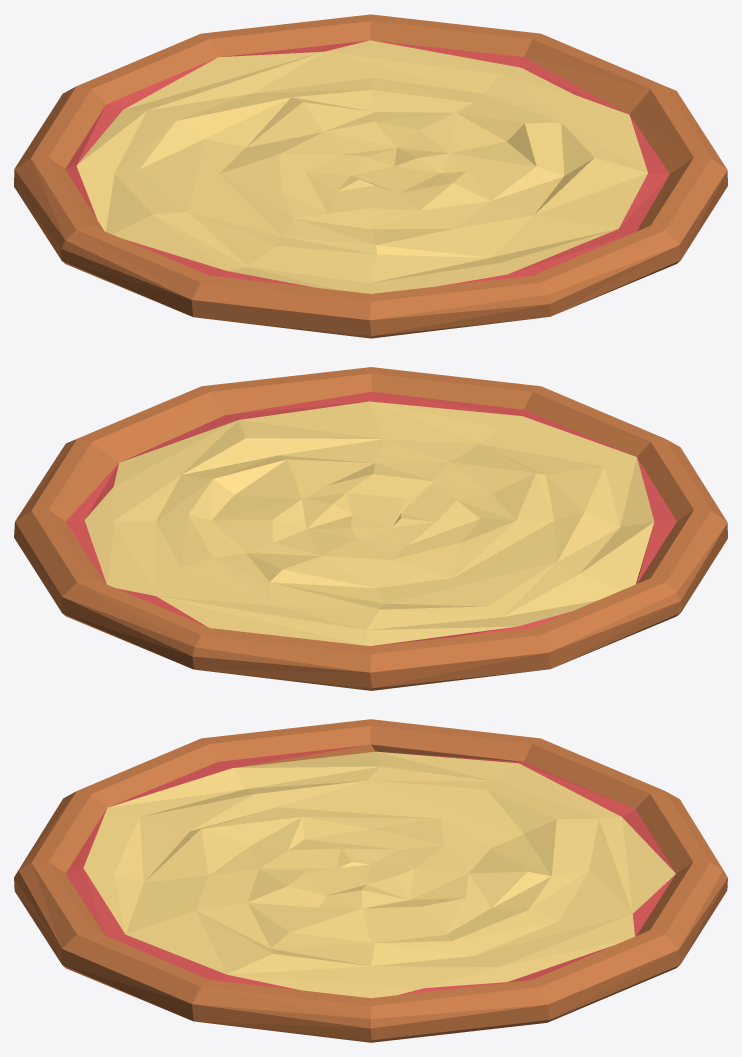
Rendered from Pizza.fbx.
3 views of the same model, one above another, from view 1: azimuth 30°, elevation 25°; view 2: azimuth 150°, elevation 25°; view 3: azimuth 270°, elevation 25° (orthographic).
Visible parts, largest first — view 1: Cylinder; view 2: Cylinder; view 3: Cylinder.
Boxes of the visible parts, x1,y1,x2,y2 form: Cylinder: (14,14,727,338); Cylinder: (14,367,727,690); Cylinder: (14,719,727,1042).
Bounding box in the file's own units: 115 × 5.65 × 115.
